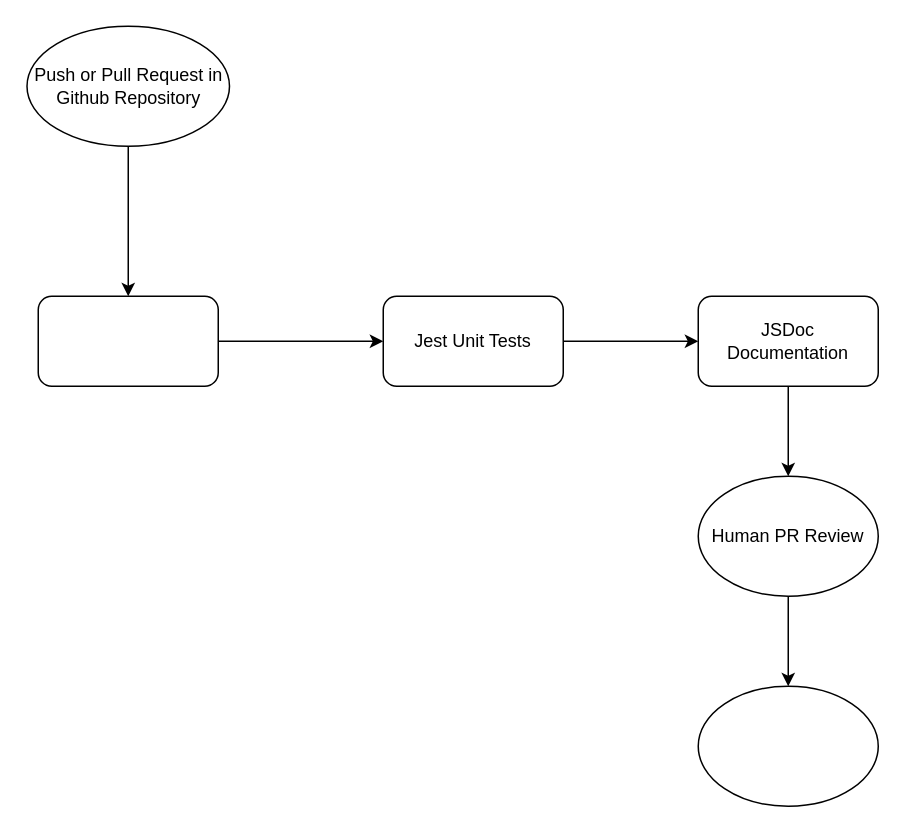
This 905x833 diagram has some shape labels left out. The shapes that lost their labels are listed below. From the top down, each one's box as (x1, y1, x2, y2) in pixels, then its label:
(37, 295, 218, 386): Linting w/ Airbnb & ESLint
(697, 685, 878, 806): Done
